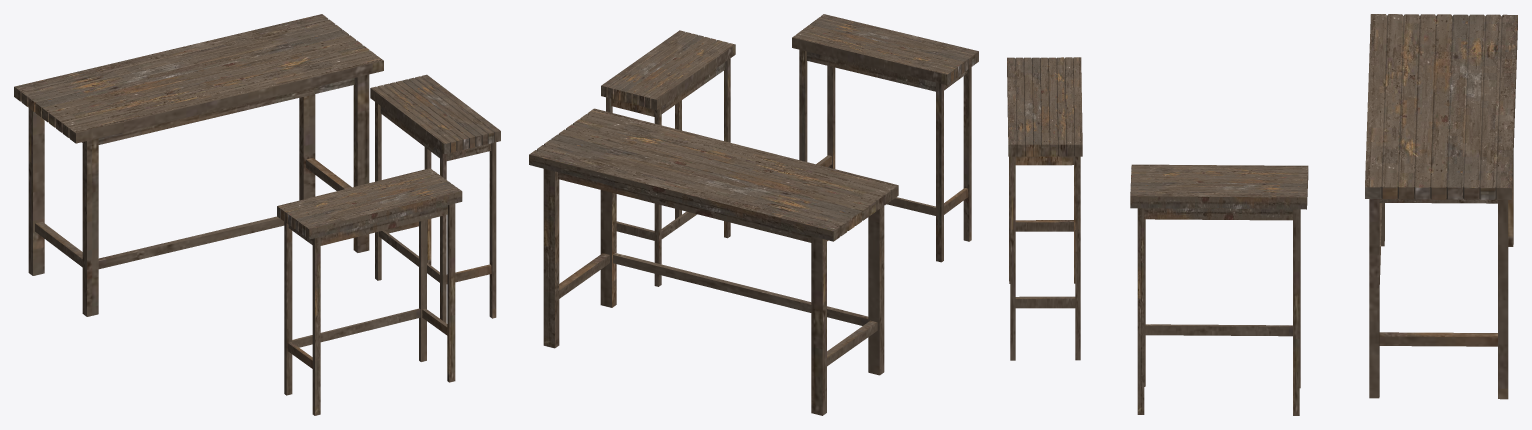
Rendered from Mesas.glb.
3 views of the same model, side by side, from view 1: azimuth 30°, elevation 25°; view 2: azimuth 150°, elevation 25°; view 3: azimuth 270°, elevation 25° (orthographic). The views are drawn at different scales.
Parts seen in each view (by area): view 1: Mesa01, Mesa03, Mesa02; view 2: Mesa01, Mesa03, Mesa02; view 3: Mesa01, Mesa02, Mesa03.
Part boxes in pixels (x1=…): Mesa01: x1=14, y1=14, x2=383, y2=316; Mesa03: x1=277, y1=168, x2=462, y2=415; Mesa02: x1=370, y1=74, x2=500, y2=323; Mesa01: x1=529, y1=108, x2=898, y2=415; Mesa03: x1=792, y1=14, x2=978, y2=262; Mesa02: x1=601, y1=30, x2=735, y2=286; Mesa01: x1=1365, y1=14, x2=1517, y2=399; Mesa02: x1=1130, y1=164, x2=1308, y2=415; Mesa03: x1=1007, y1=57, x2=1082, y2=360.
Size of the model in its own units: 1.84 by 1.03 by 2.17.
1 material, 1 textured.
